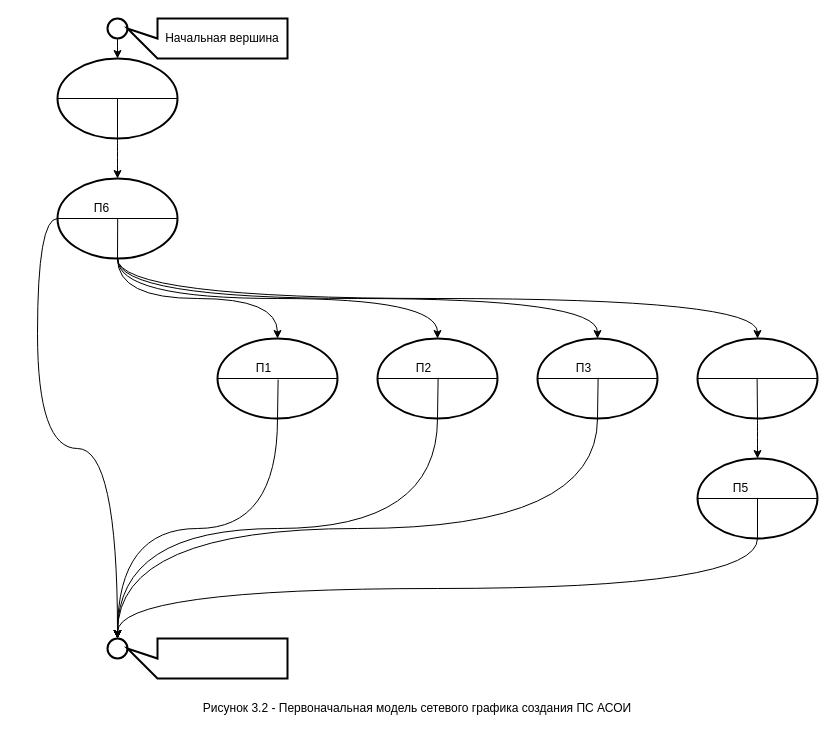
The diagram is 836 pixels wide and 735 high, and some of its shapes have lost their labels. The shapes that lost their labels are listed below. From the top down, each one's centre as x and y in pixels, then its label:
At point 117,98: "П0".
At point 757,378: "П4".
At point 207,658: "Конечная вершина".
